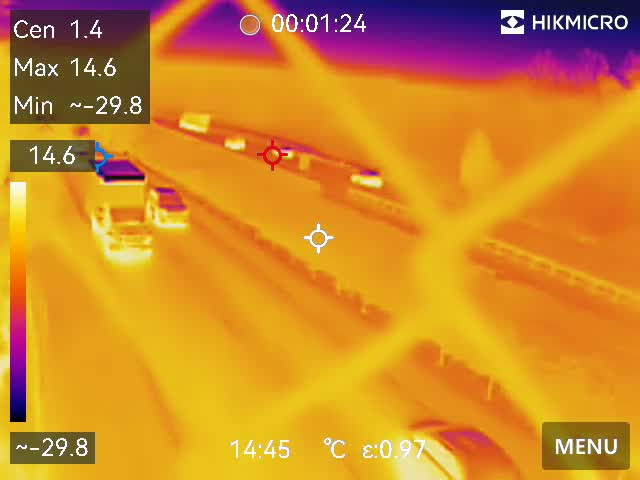heavyTruck: (71, 142, 147, 257), (177, 110, 215, 135)
largeCar: (148, 183, 187, 229)
vehicle: (394, 415, 538, 480), (348, 165, 387, 189), (223, 131, 246, 154), (269, 142, 294, 158)
